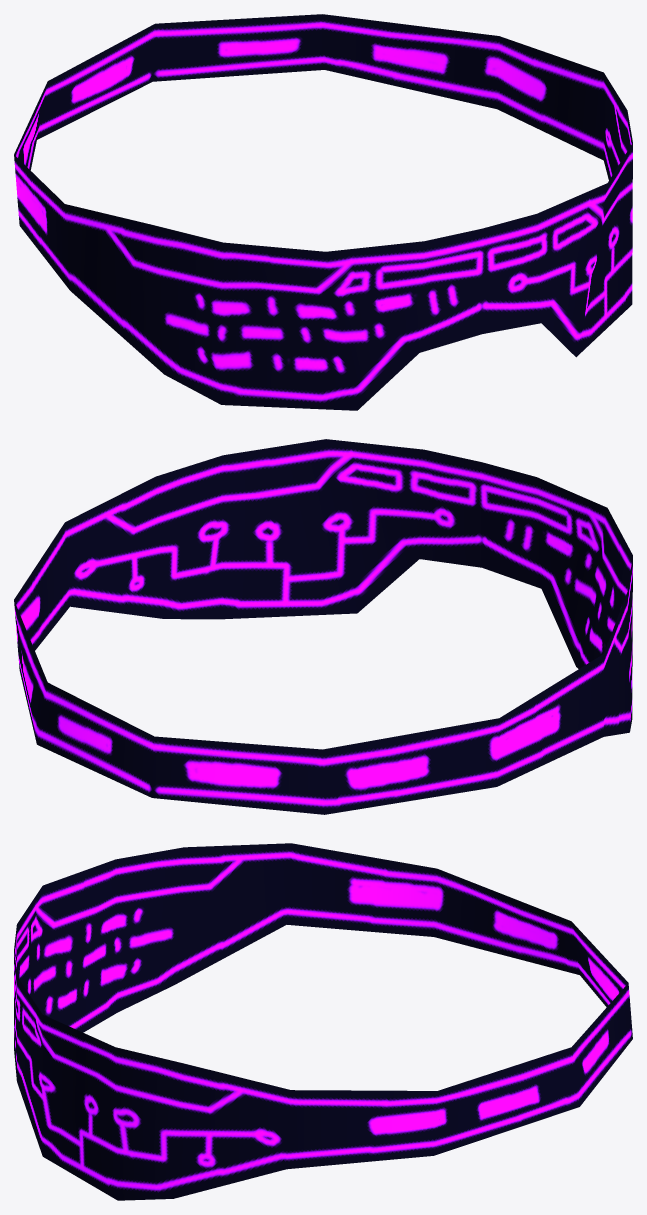
File: glass.fbx
3 views of the same model, one above another, from view 1: azimuth 30°, elevation 25°; view 2: azimuth 150°, elevation 25°; view 3: azimuth 270°, elevation 25° (orthographic). The views are drawn at different scales.
Parts seen in each view (by area): view 1: Plane; view 2: Plane; view 3: Plane.
Part boxes in pixels (<box>): Plane: <box>14,14,632,410</box>; Plane: <box>14,439,632,814</box>; Plane: <box>14,843,632,1200</box>.
Bounding box in the file's own units: 36.07 × 10.66 × 38.22.
1 material, 1 textured.
